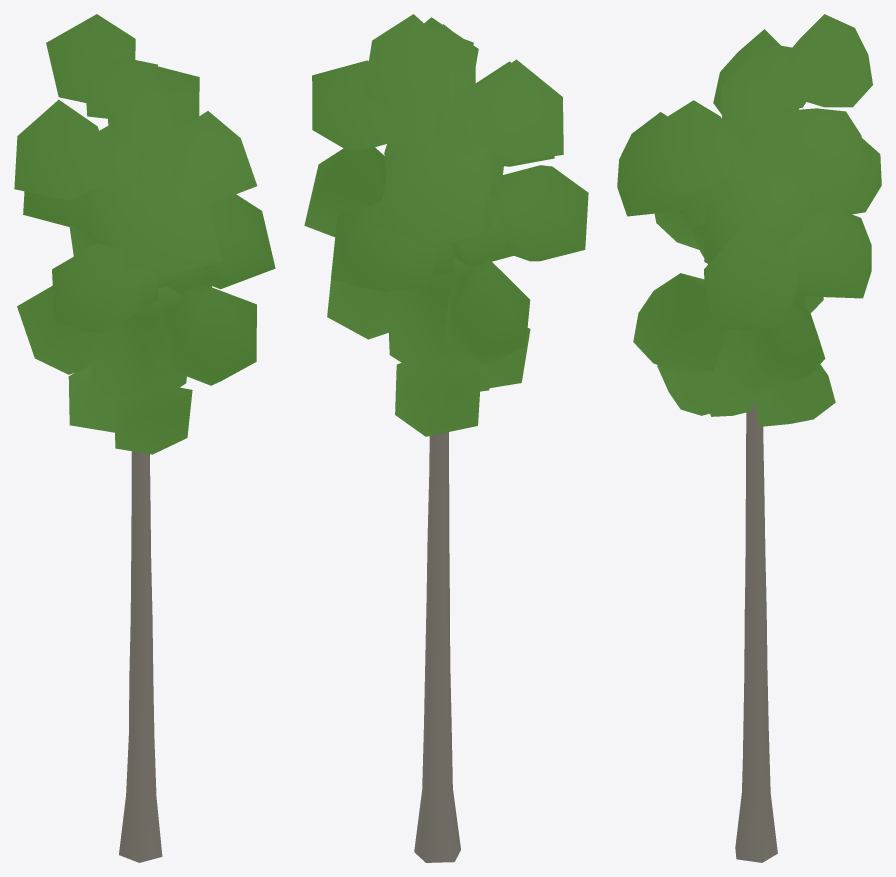
File: Blender_TulipPoplar_2_Far.glb
The picture shows the model from 3 angles, left to right: view 1: azimuth 30°, elevation 25°; view 2: azimuth 150°, elevation 25°; view 3: azimuth 270°, elevation 25°; orthographic projection. The views are drawn at different scales.
Visible parts, largest first — view 1: Blender_TulipPoplar_2_Far; view 2: Blender_TulipPoplar_2_Far; view 3: Blender_TulipPoplar_2_Far.
Part boxes in pixels (bbox=[...]): Blender_TulipPoplar_2_Far: bbox=[14, 14, 275, 862]; Blender_TulipPoplar_2_Far: bbox=[304, 14, 588, 862]; Blender_TulipPoplar_2_Far: bbox=[617, 14, 881, 862].
Bounding box in the file's own units: 13.09 × 42.73 × 12.29.
